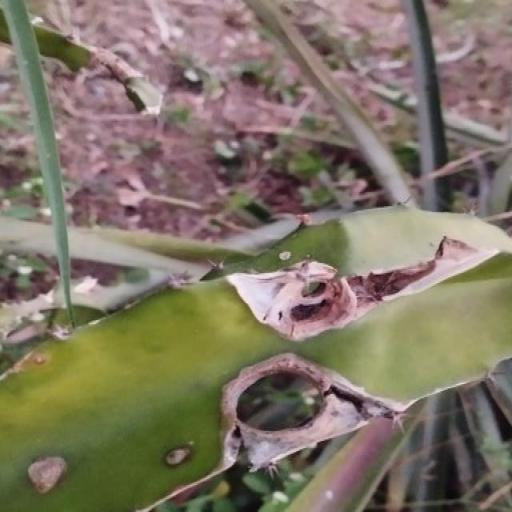stemcanker: (266, 286, 286, 308)
